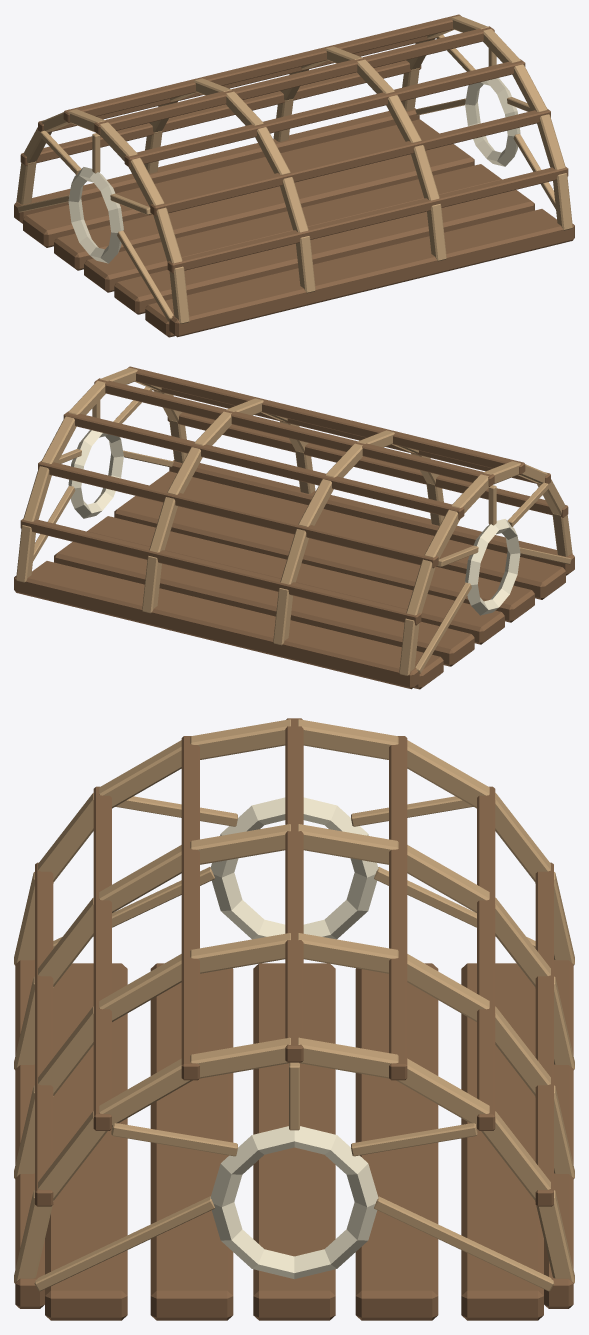
Rendered from 07_Lobster_Trap.glb.
3 views of the same model, one above another, from view 1: azimuth 30°, elevation 25°; view 2: azimuth 150°, elevation 25°; view 3: azimuth 270°, elevation 25° (orthographic). The views are drawn at different scales.
Visible parts, largest first — view 1: 07_Lobster_Trap__Body; view 2: 07_Lobster_Trap__Body; view 3: 07_Lobster_Trap__Body.
Boxes of the visible parts, x1,y1,x2,y2 form: 07_Lobster_Trap__Body: (14,14,574,337); 07_Lobster_Trap__Body: (14,366,574,689); 07_Lobster_Trap__Body: (14,718,574,1320).
Bounding box in the file's own units: 2.44 × 0.9191 × 1.7.
Materials: 1 (1 with a texture image).
